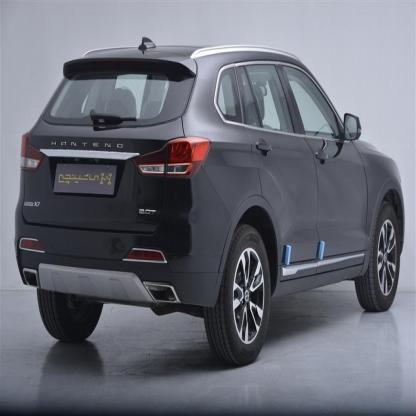Car: (11, 35, 406, 348)
